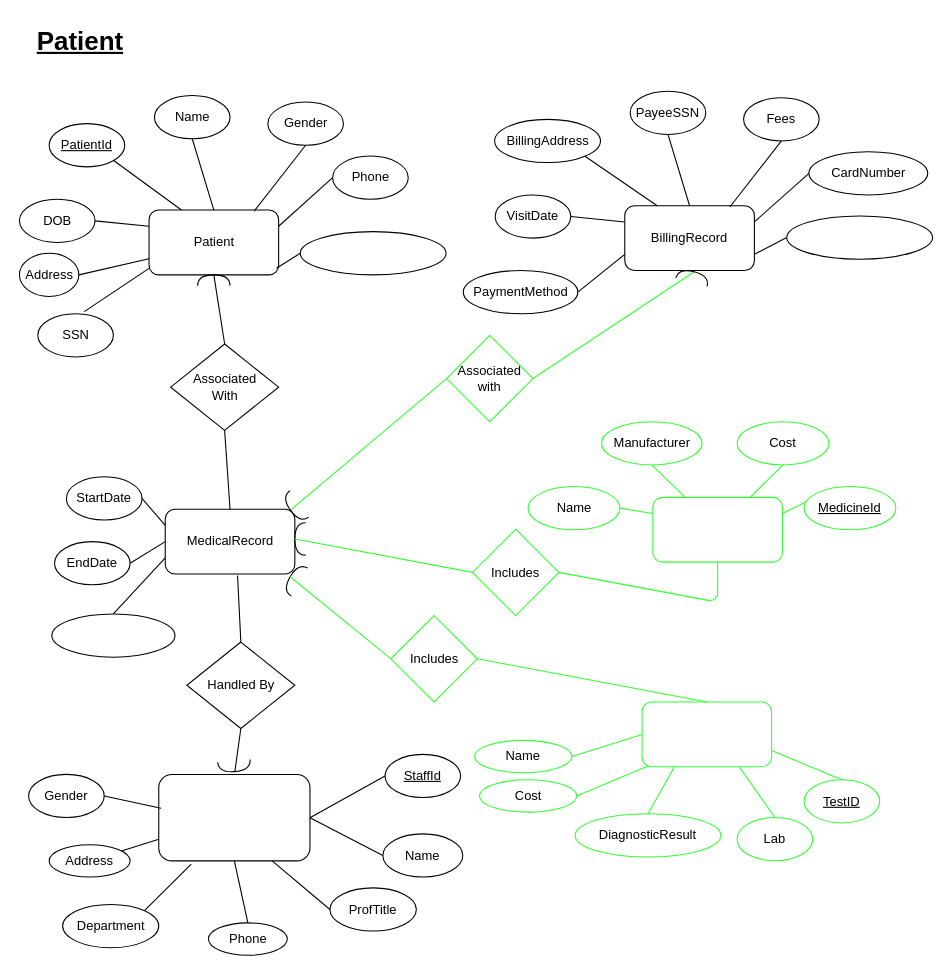
The diagram is 951 pixels wide and 974 high, and some of its shapes have lost their labels. Here are the shapes that lost their labels. From the top down, the centre of each, then its label:
[372,253]: TreatmentStatus
[859,237]: BillingRecordId
[717,529]: Medicine
[113,635]: MedicalRecordId
[706,734]: Test
[234,817]: Staff
